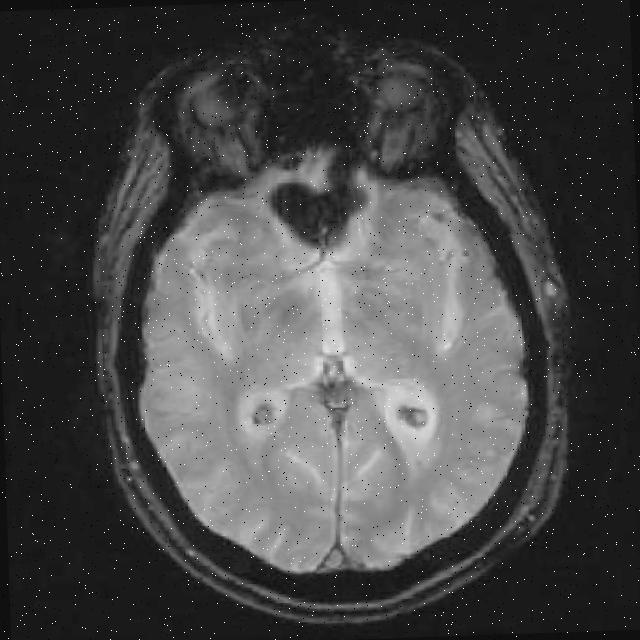EMCI: (268, 169, 414, 261)
